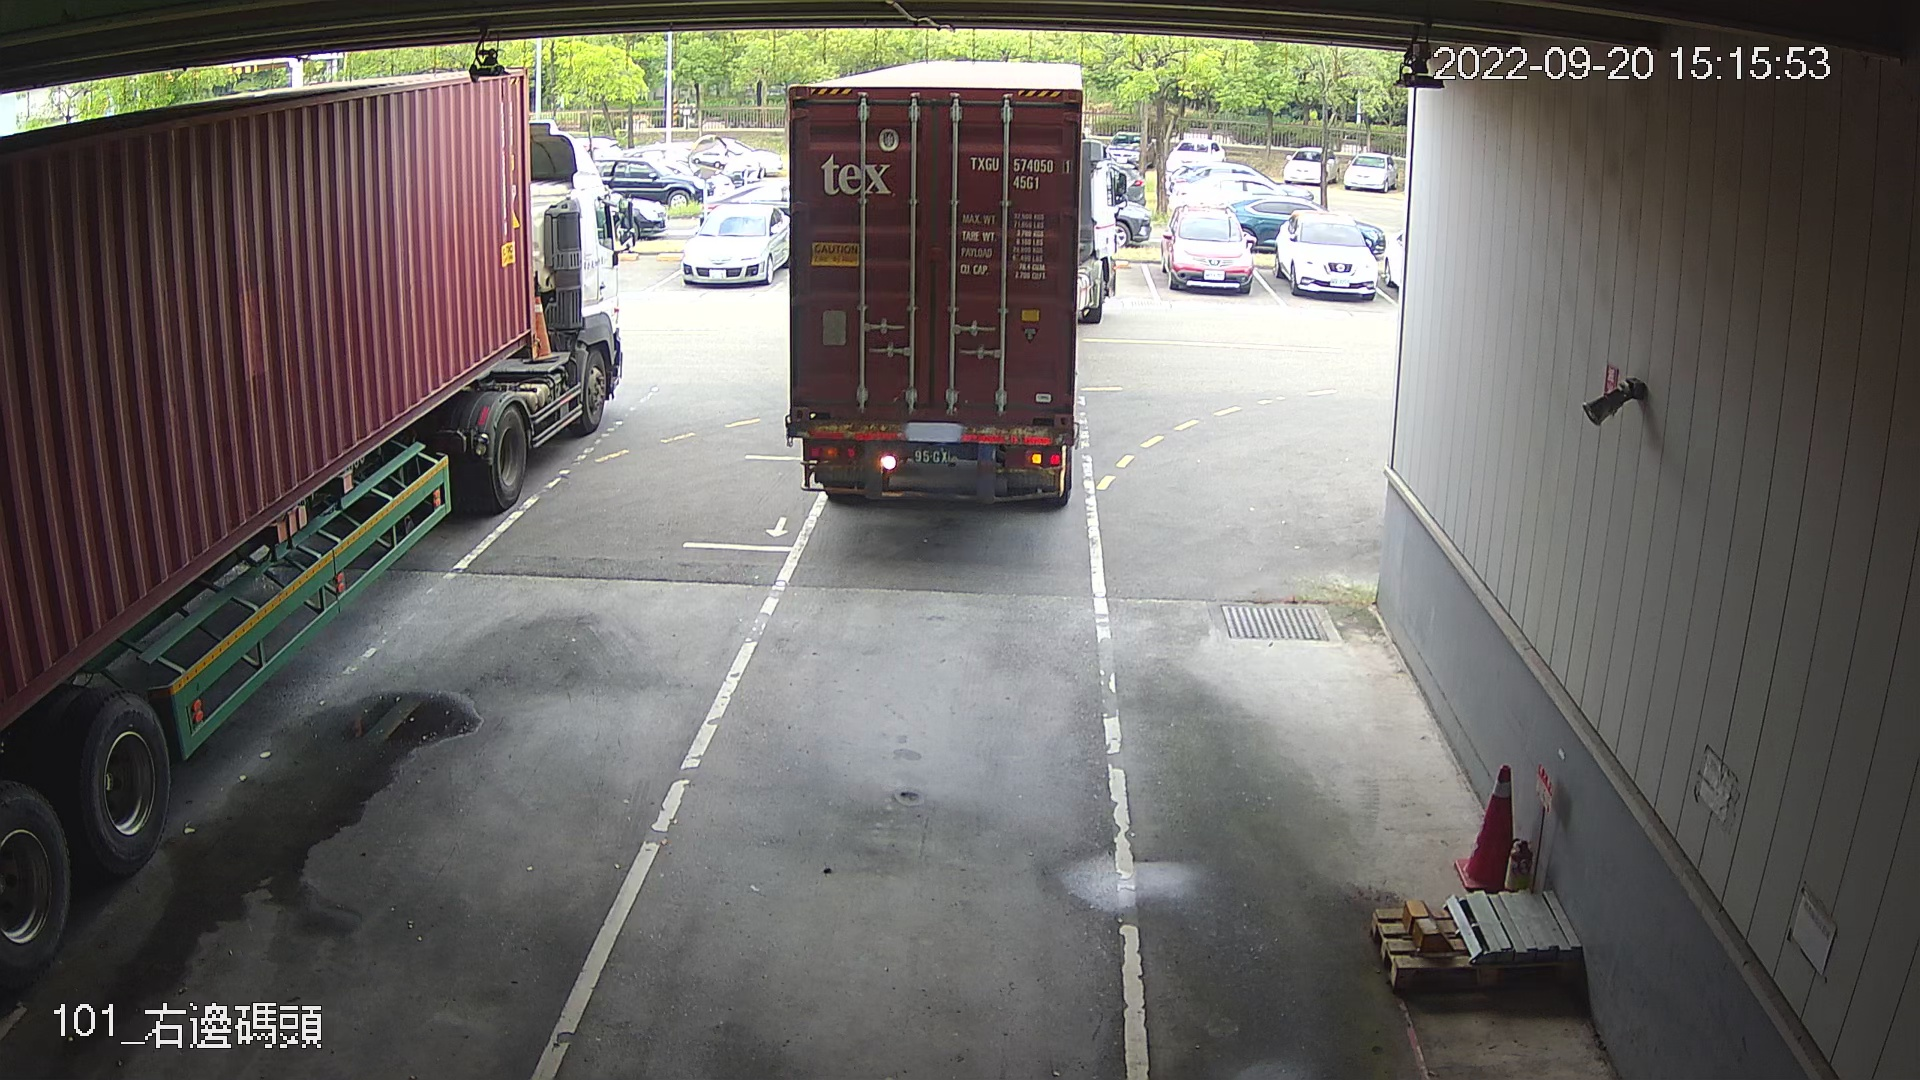container: (963, 148, 1076, 195)
